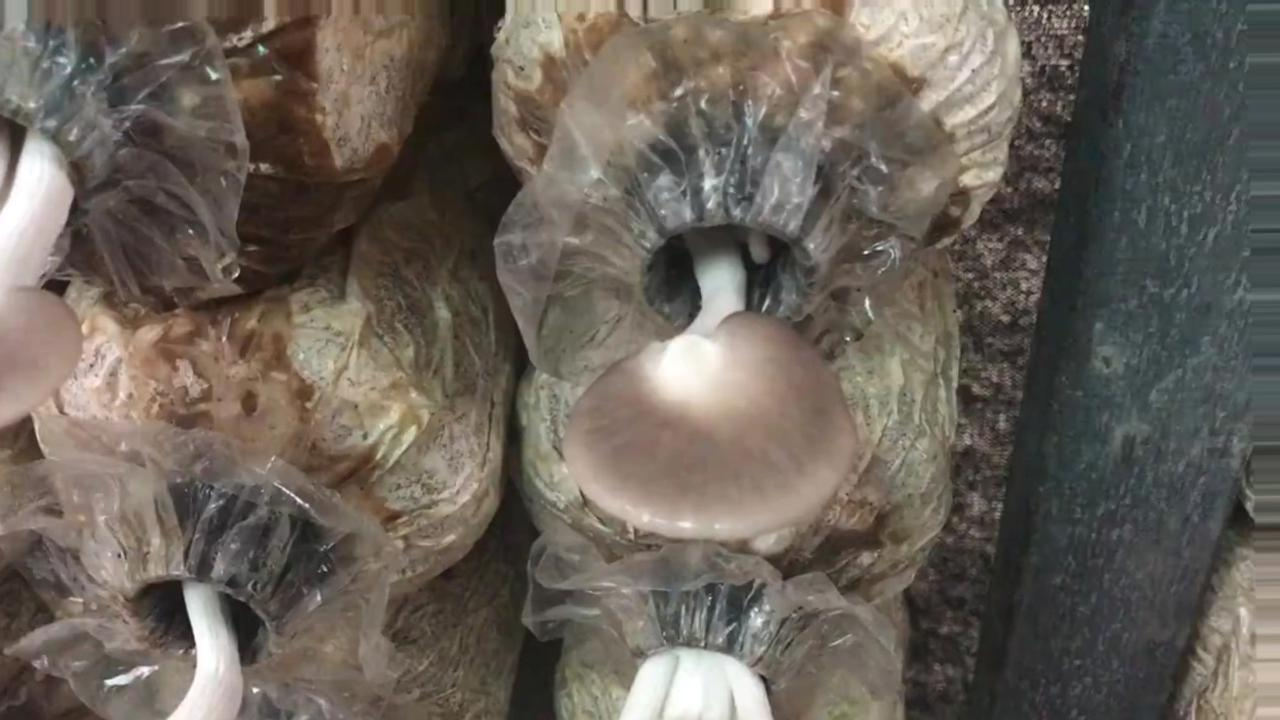nam: (556, 125, 859, 550), (1, 34, 135, 435)
